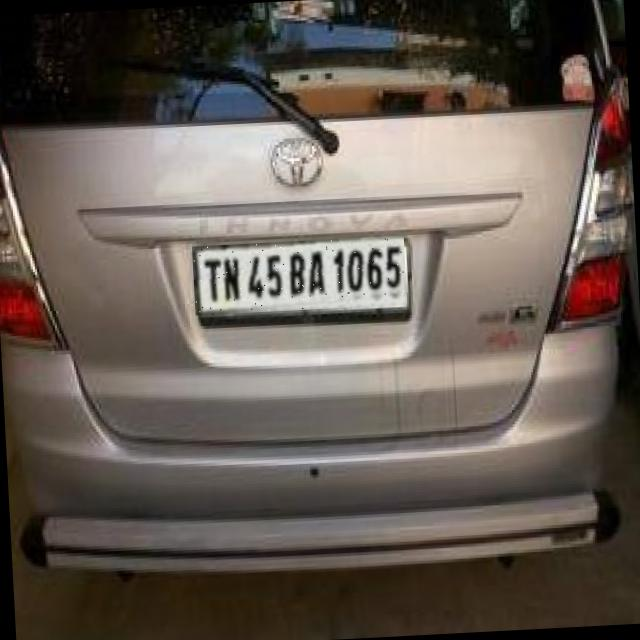Plate: (193, 237, 408, 317)
